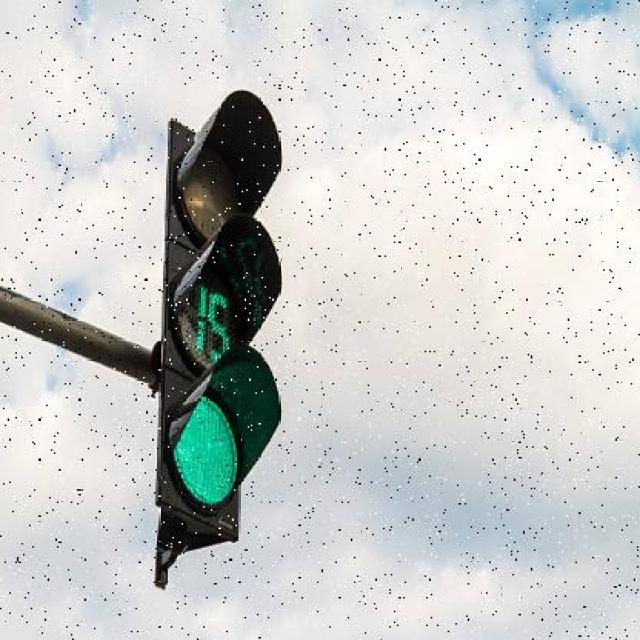green-light: (160, 101, 292, 559)
